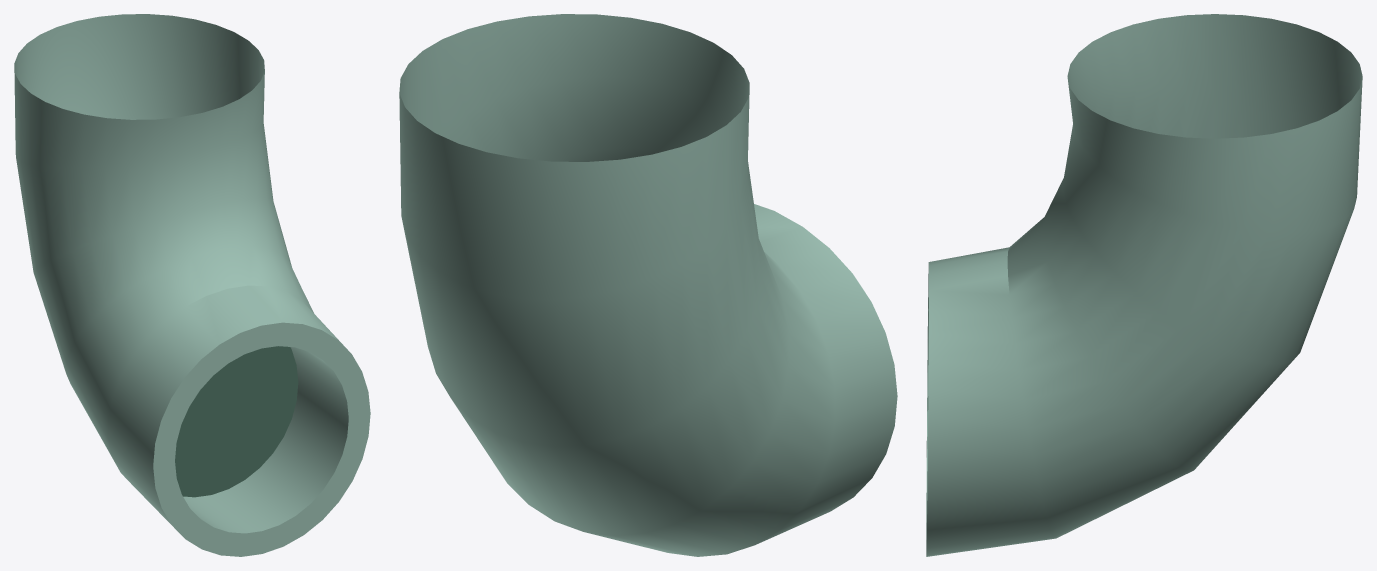
File: drain pipe end.fbx
3 views of the same model, side by side, from view 1: azimuth 30°, elevation 25°; view 2: azimuth 150°, elevation 25°; view 3: azimuth 270°, elevation 25° (orthographic). The views are drawn at different scales.
Visible parts, largest first — view 1: Cylinder.005; view 2: Cylinder.005; view 3: Cylinder.005.
Part boxes in pixels (left/top/right/bottom): Cylinder.005: left=14, top=14, right=370, bottom=556; Cylinder.005: left=399, top=14, right=897, bottom=556; Cylinder.005: left=926, top=14, right=1362, bottom=556.
Size of the model in its own units: 20.62 by 35.98 by 30.48.
